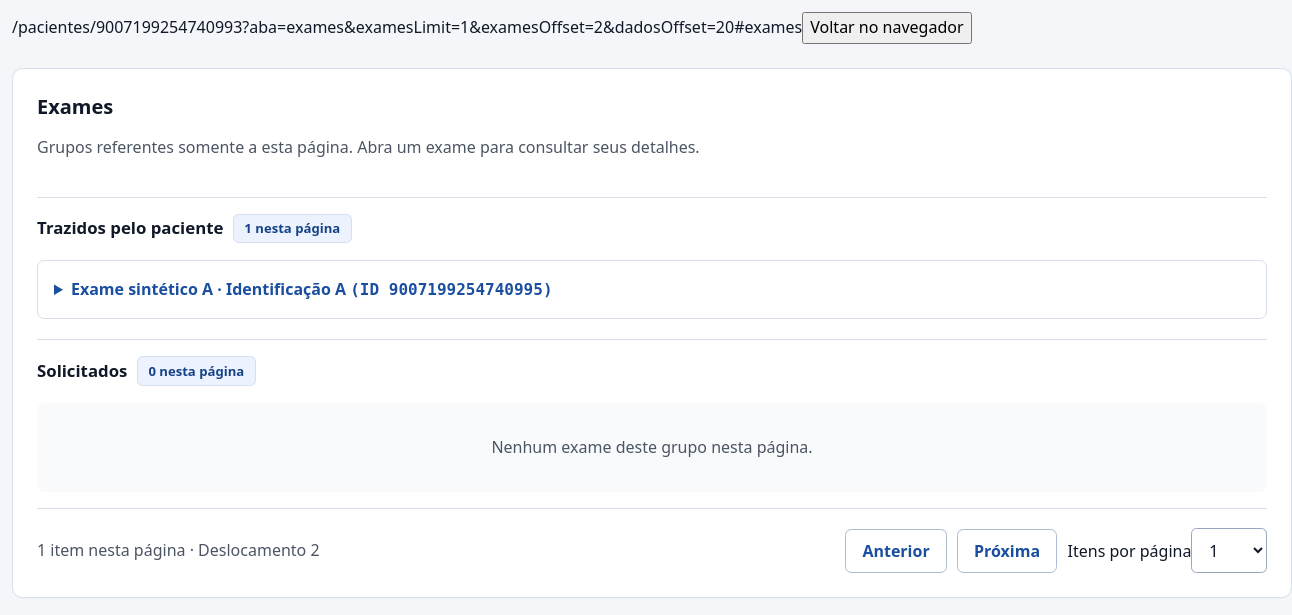
Test: 7D-U3.3 — exames da página com contexto recuperável › pagina por recurso e foca título mesmo quando a página seguinte está vazia
The width and height of the screenshot is (1292, 615).
Step 1. Click the button "Próxima" → coordinates (1007, 551), box top-left (957, 529), bottom-right (1057, 573)
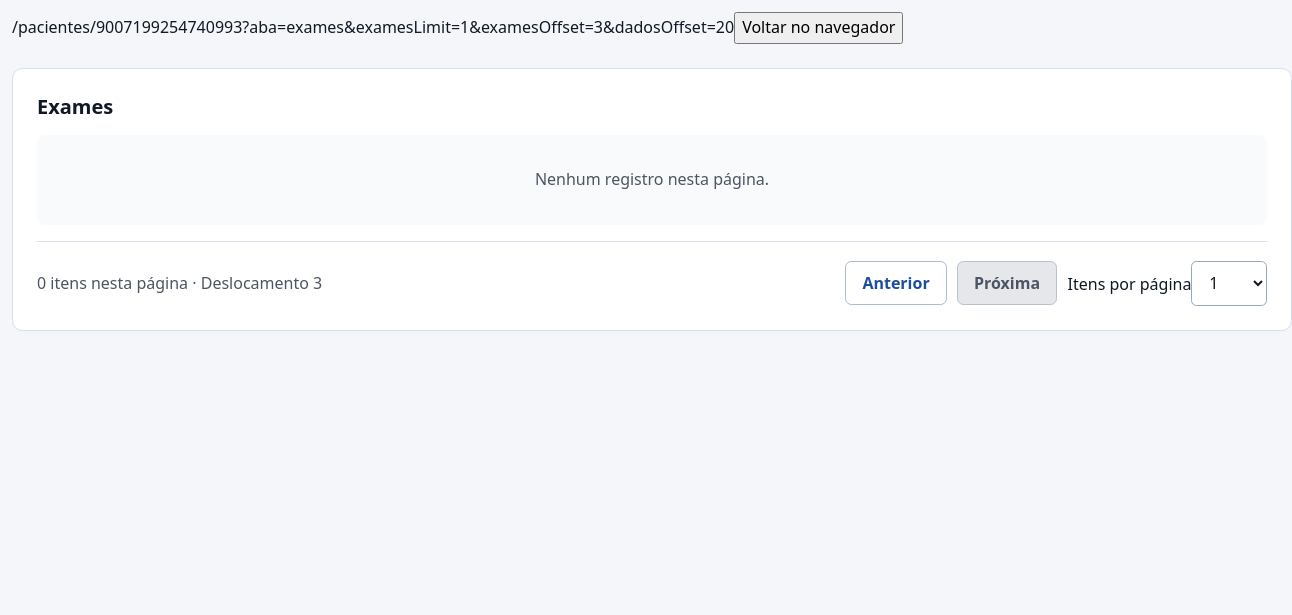
Now the text with test id "location" shows "examesOffset=3", box top-left (242, 16), bottom-right (734, 38)
Now the text "Nenhum registro nesta página." is shown, box top-left (535, 168), bottom-right (769, 190)
Now the button "Próxima" is disabled, box top-left (957, 261), bottom-right (1057, 305)
